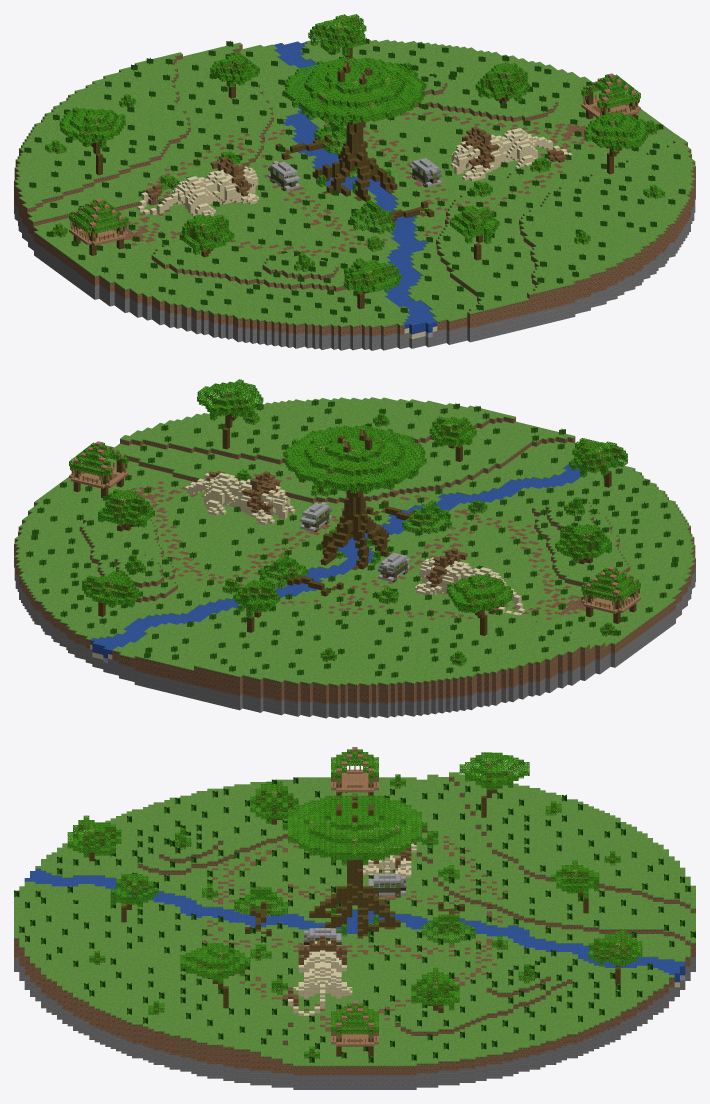
The model's file is minecraft.obj.
3 views of the same model, one above another, from view 1: azimuth 30°, elevation 25°; view 2: azimuth 150°, elevation 25°; view 3: azimuth 270°, elevation 25° (orthographic).
Bounding box in the file's own units: 127 × 29 × 127.
